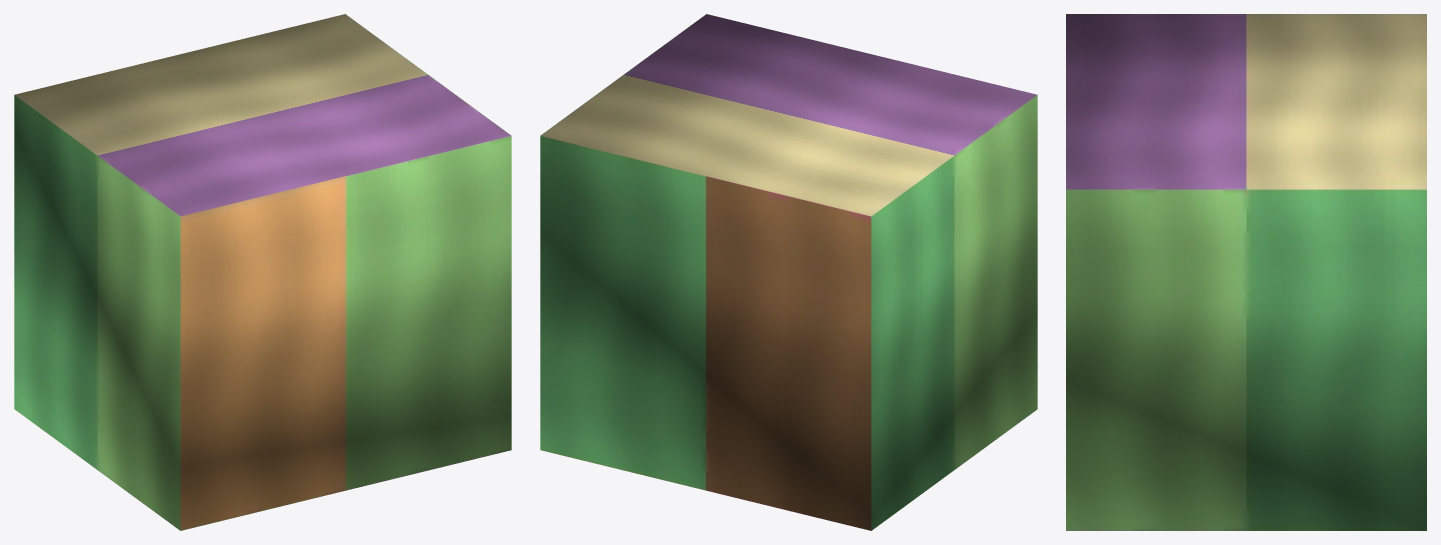
The model's file is mushroom_bouncy.glb.
3 renders of one model, left to right at view 1: azimuth 30°, elevation 25°; view 2: azimuth 150°, elevation 25°; view 3: azimuth 270°, elevation 25°, orthographic. The views are drawn at different scales.
Visible parts, largest first — view 1: col; view 2: col; view 3: col.
Part boxes in pixels (x1,y1,x2,y2): col: [14, 14, 511, 530]; col: [540, 14, 1037, 530]; col: [1066, 14, 1426, 530].
Size of the model in its own units: 1.3 by 1.18 by 1.13.
Materials: 1 (1 with a texture image).
